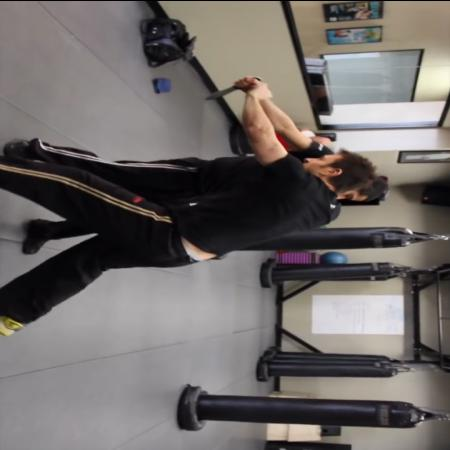long weapon: (202, 74, 264, 102)
